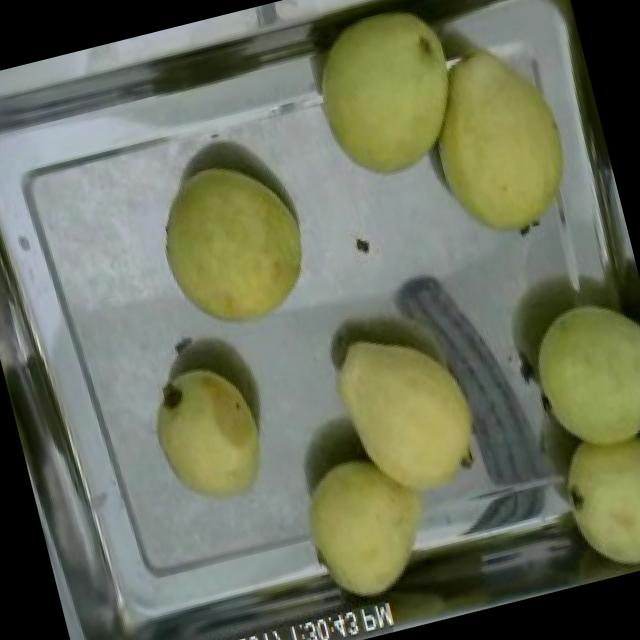Fruit: (398, 24, 606, 265), (315, 304, 515, 528), (138, 142, 328, 348), (292, 0, 488, 198), (284, 432, 466, 624), (501, 276, 640, 476), (136, 348, 283, 520), (533, 397, 640, 587)
